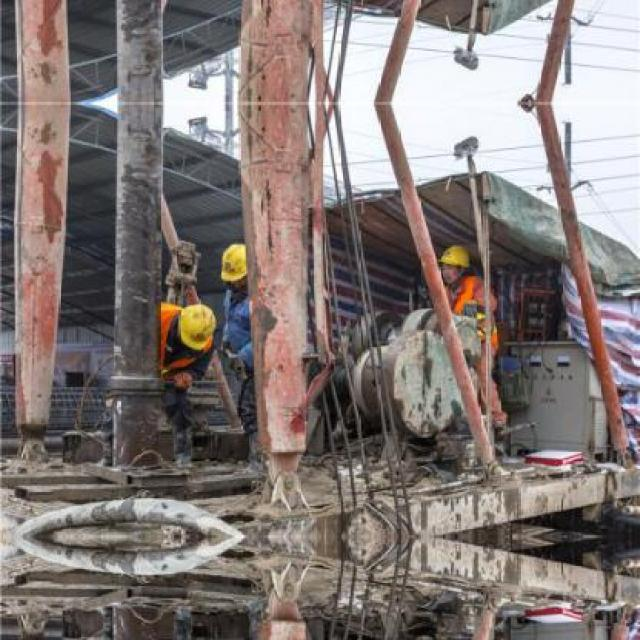helmet: (176, 297, 218, 349), (220, 238, 248, 297), (436, 241, 472, 285)
